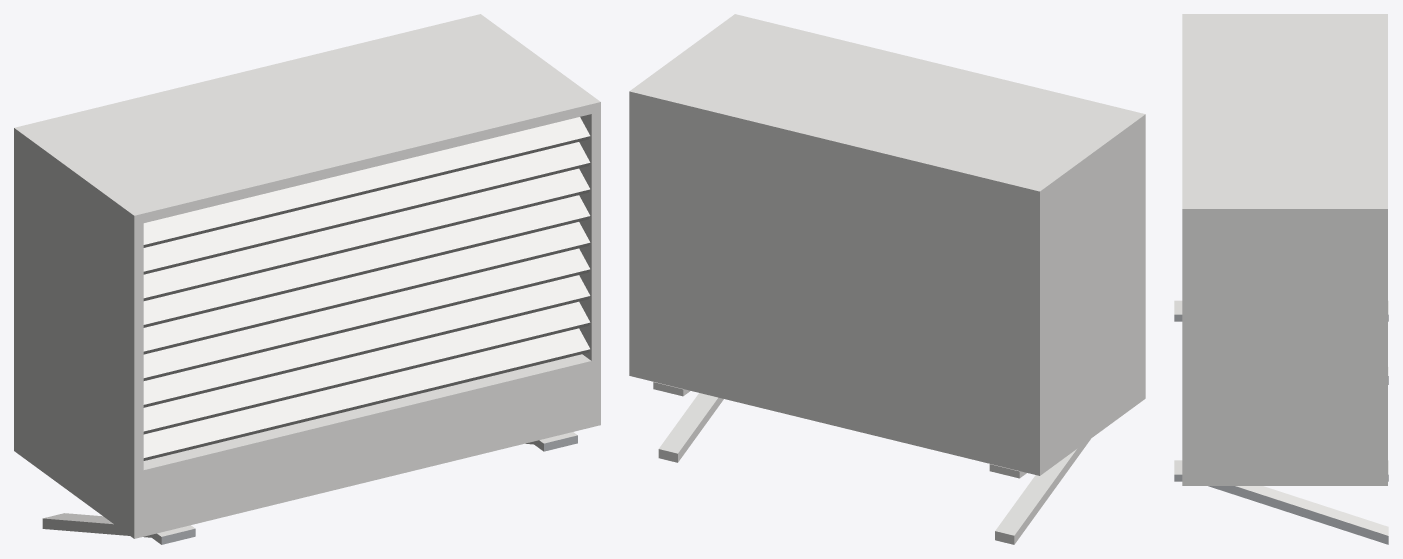
The model's file is SM_airconditioner_03.fbx.
3 views of the same model, side by side, from view 1: azimuth 30°, elevation 25°; view 2: azimuth 150°, elevation 25°; view 3: azimuth 270°, elevation 25° (orthographic). The views are drawn at different scales.
Parts seen in each view (by area): view 1: Box037; view 2: Box037; view 3: Box037.
Boxes of the visible parts, bbox=[...] form: Box037: bbox=[14, 14, 600, 544]; Box037: bbox=[629, 14, 1145, 544]; Box037: bbox=[1174, 14, 1388, 544].
Size of the model in its own units: 35.35 by 16.42 by 29.56.
